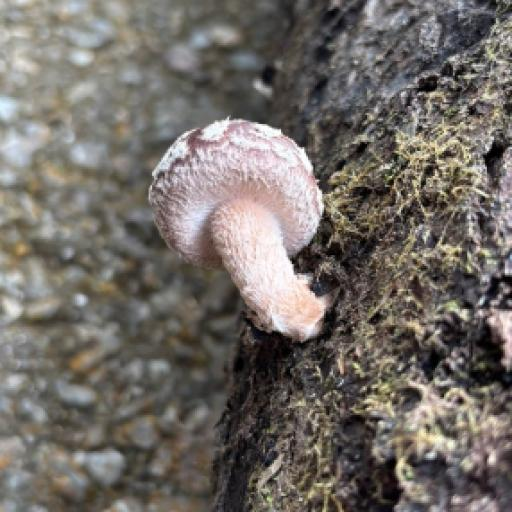Shiitake Mushroom: (138, 90, 392, 346)
